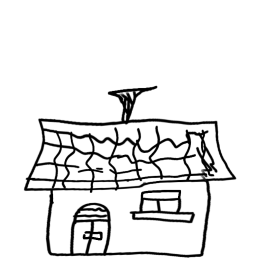bottom_placed_house: (1, 0, 260, 260)
chimney: (97, 77, 162, 133)
closed_window: (127, 187, 197, 233)
door: (63, 201, 119, 258)
roof: (18, 110, 240, 195)
wall: (43, 168, 211, 260)
